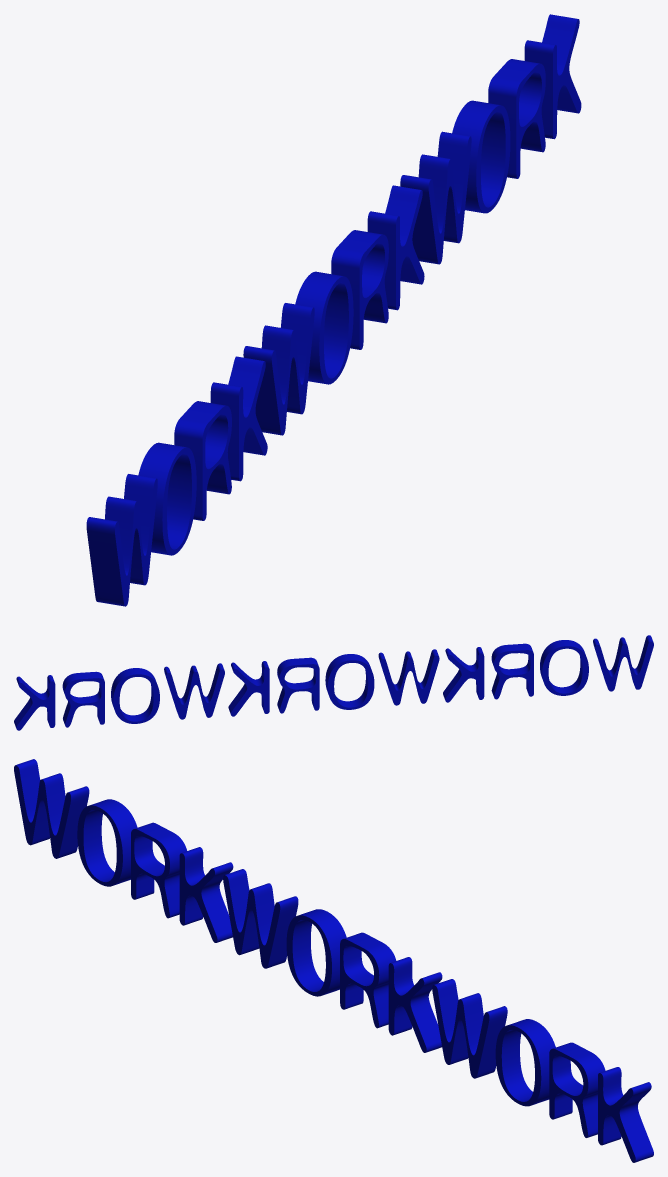
Rendered from work.glb.
3 views of the same model, one above another, from view 1: azimuth 30°, elevation 25°; view 2: azimuth 150°, elevation 25°; view 3: azimuth 270°, elevation 25° (orthographic). The views are drawn at different scales.
Parts seen in each view (by area): view 1: Text; view 2: Text; view 3: Text.
Boxes of the visible parts, bbox=[...] form: Text: bbox=[86, 14, 581, 606]; Text: bbox=[14, 635, 653, 730]; Text: bbox=[14, 759, 653, 1162].
Size of the model in its own units: 7.42 by 0.7925 by 6.03.
